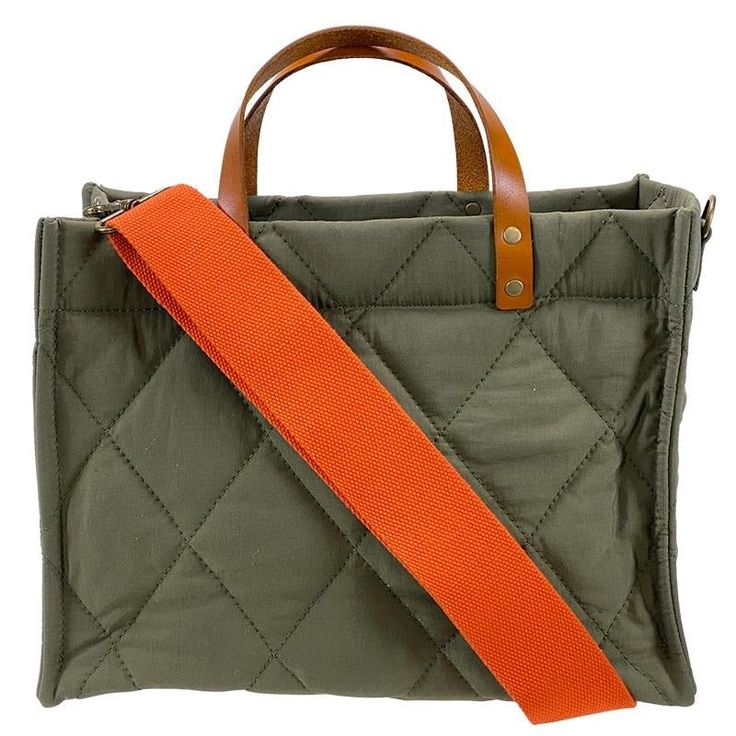nylon: (29, 171, 706, 721)
